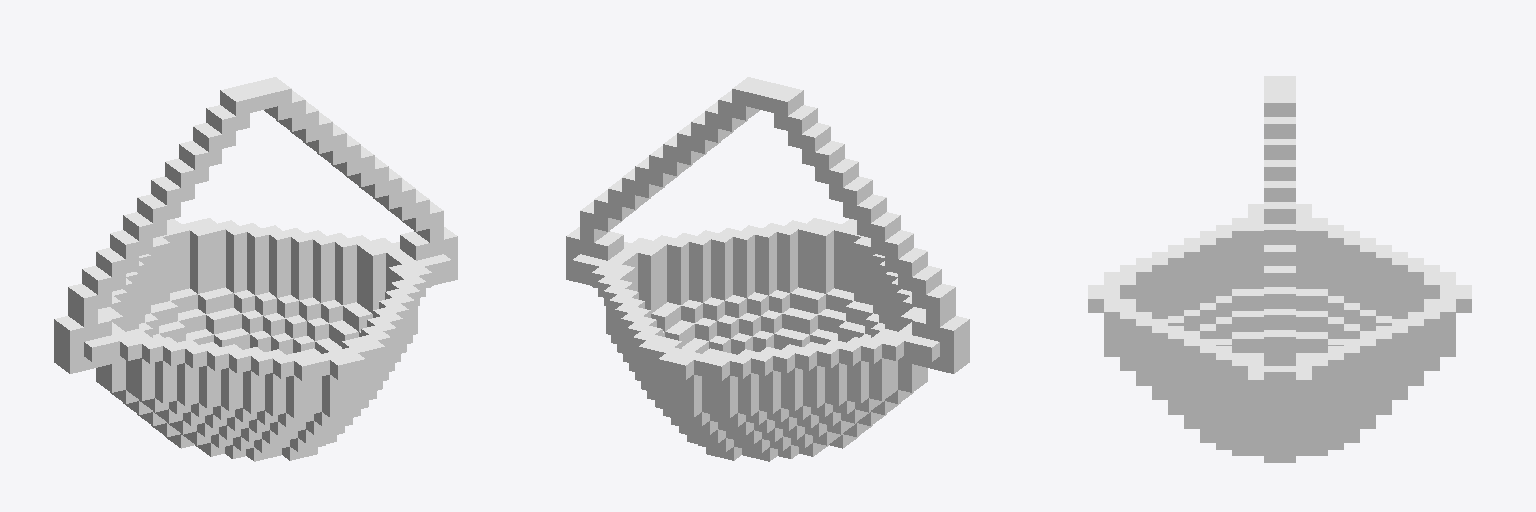
File: Pot01.obj
The picture shows the model from 3 angles: view 1: azimuth 30°, elevation 25°; view 2: azimuth 150°, elevation 25°; view 3: azimuth 270°, elevation 25°; orthographic projection.
Parts seen in each view (by area): view 1: object 1; view 2: object 1; view 3: object 1.
Part boxes in pixels (left/top/right/bottom): object 1: left=54, top=77, right=457, bottom=461; object 1: left=566, top=77, right=969, bottom=461; object 1: left=1088, top=76, right=1471, bottom=462.
Bounding box in the file's own units: 2.8 × 2.3 × 2.4.